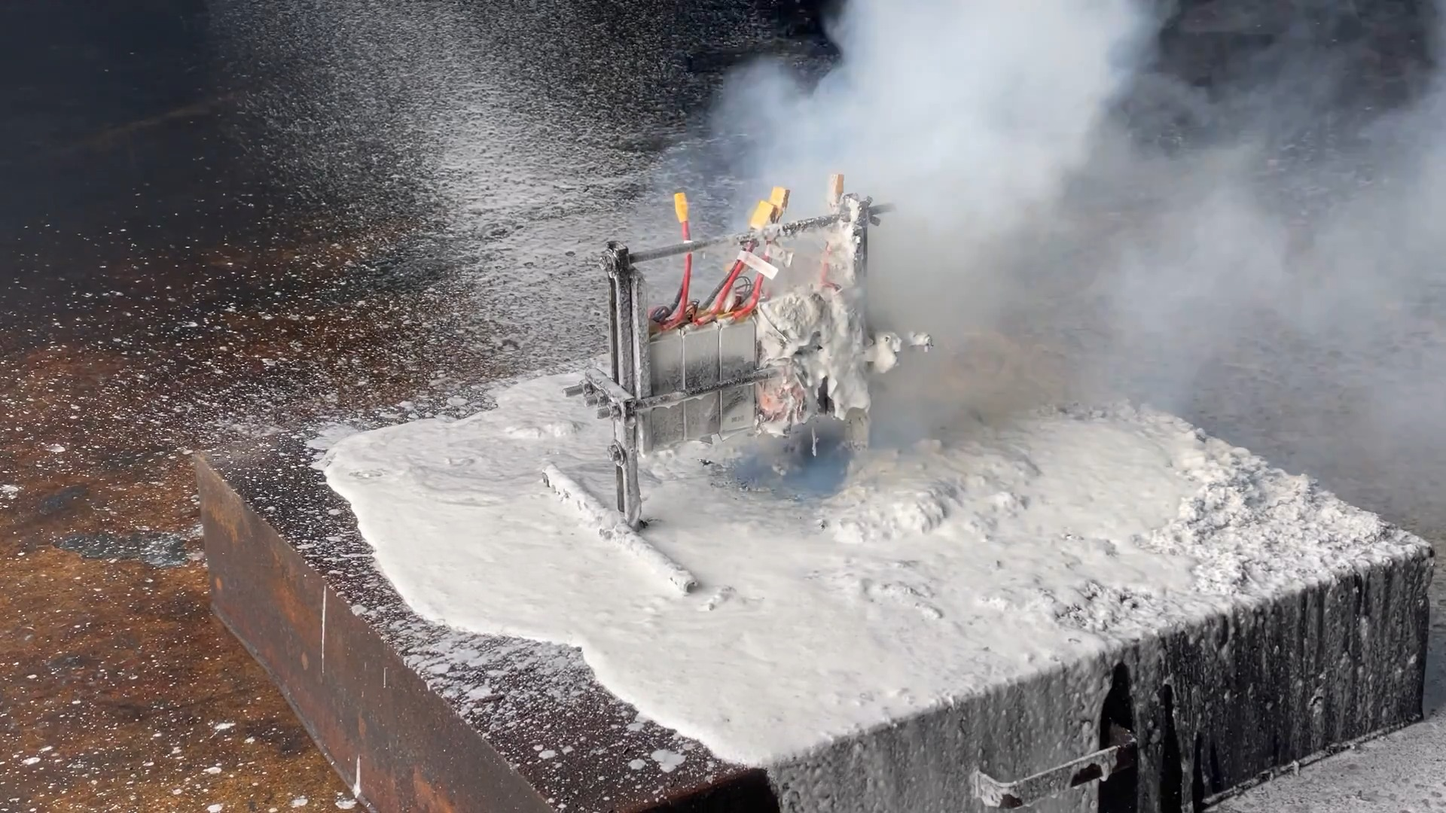smoke: (644, 0, 1446, 488)
